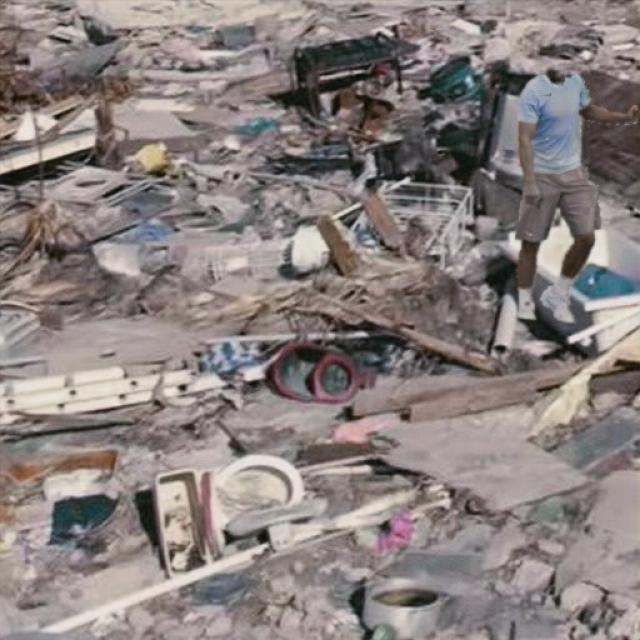Person in Rubble: (515, 72, 636, 322)
